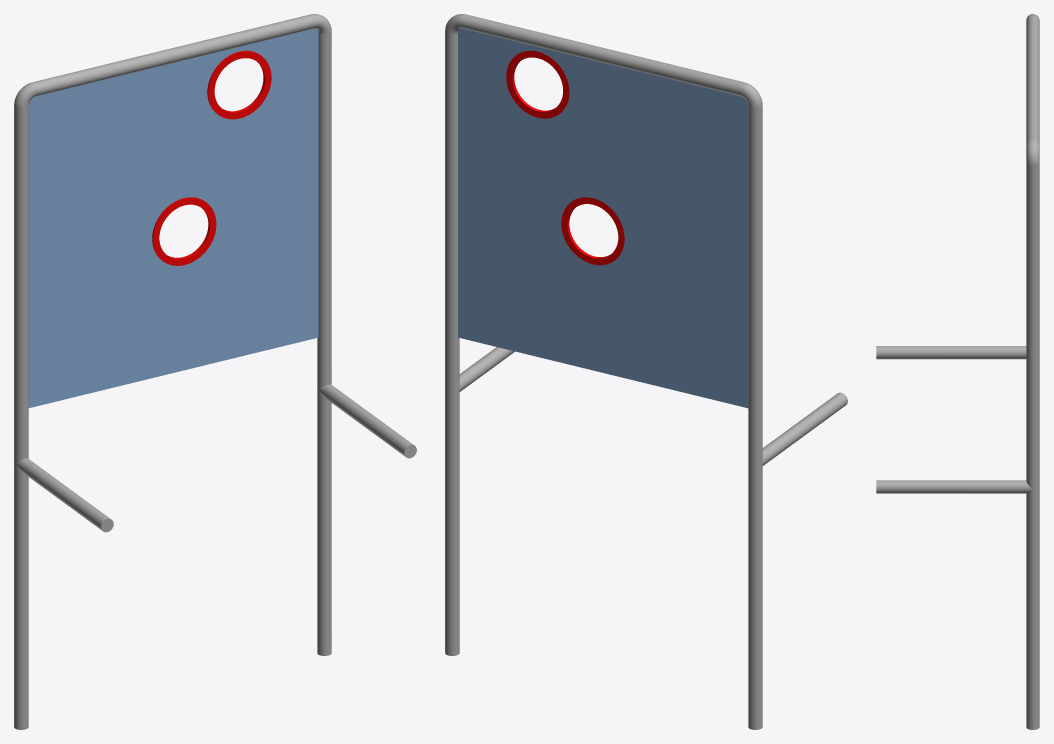
Rendered from Torpedo Target.dae.
3 views of the same model, side by side, from view 1: azimuth 30°, elevation 25°; view 2: azimuth 150°, elevation 25°; view 3: azimuth 270°, elevation 25° (orthographic). The views are drawn at different scales.
Visible parts, largest first — view 1: 68c849f24db02edb705b9563 (×4); view 2: 68c849f24db02edb705b9563 (×4); view 3: 68c849f24db02edb705b9563.
Boxes of the visible parts, x1,y1,x2,y2 form: 68c849f24db02edb705b9563 (×4): (14, 14, 416, 729); 68c849f24db02edb705b9563 (×4): (445, 14, 847, 729); 68c849f24db02edb705b9563: (876, 14, 1039, 729).
Size of the model in its own units: 0.635 by 0.3127 by 1.23.
